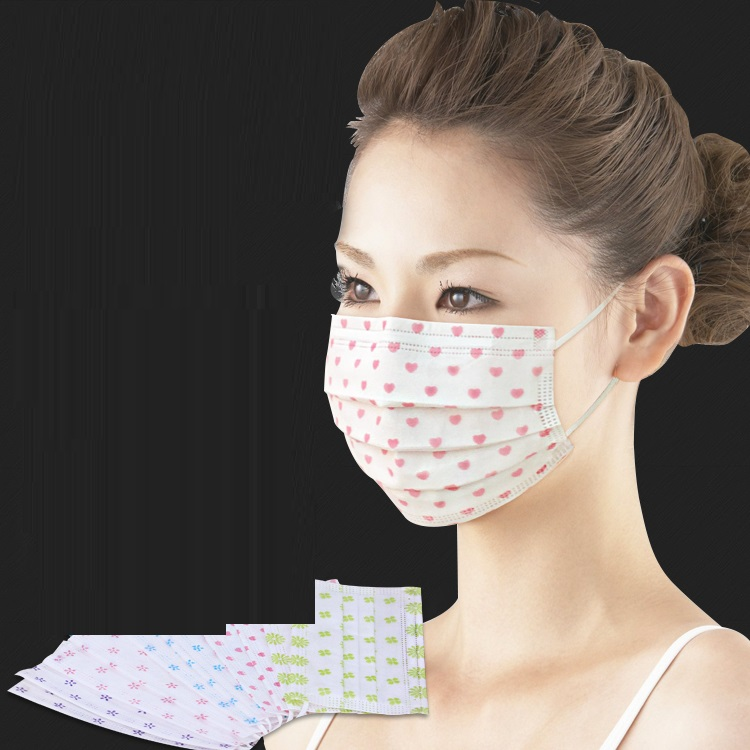face_mask: (323, 142, 579, 527)
